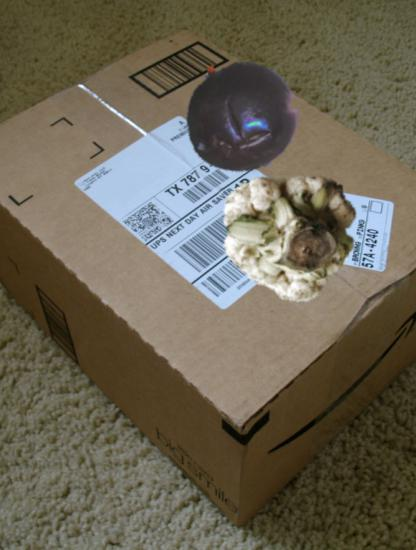Cauliflower: (218, 157, 357, 296)
Passion: (180, 56, 298, 174)
